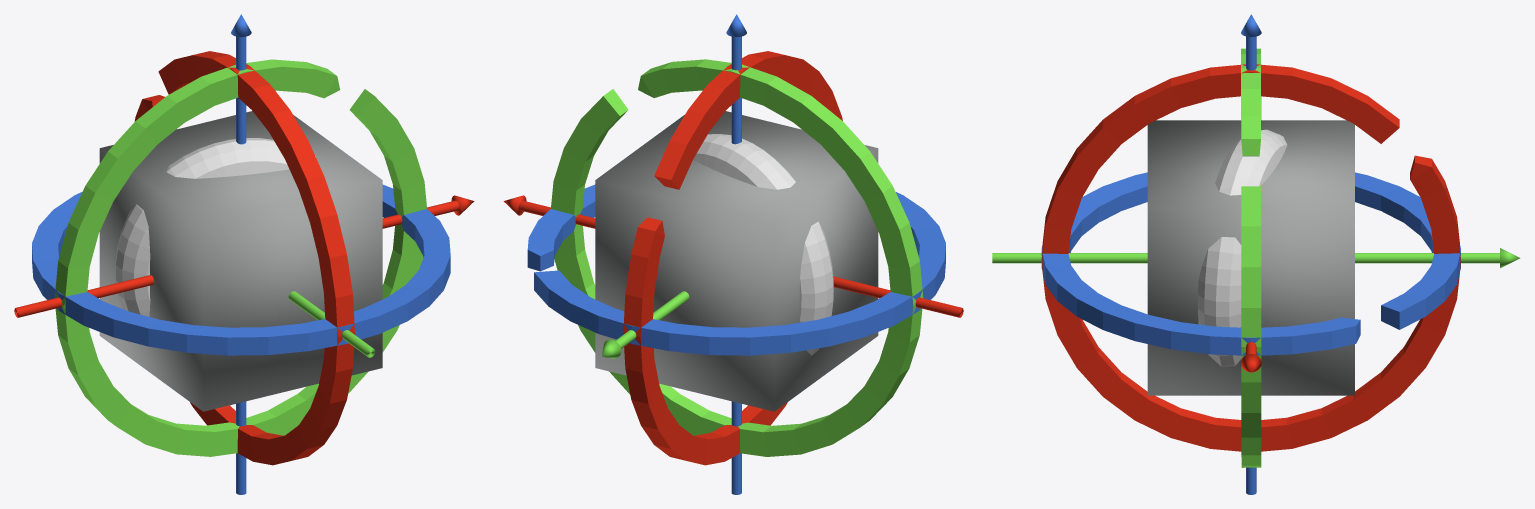
File: thecube.glb
3 views of the same model, side by side, from view 1: azimuth 30°, elevation 25°; view 2: azimuth 150°, elevation 25°; view 3: azimuth 270°, elevation 25° (orthographic).
Parts seen in each view (by area): view 1: Cube, Cylinder.004, Cylinder.005, Cylinder.003, Torus, Cylinder.002, Cylinder, Cylinder.001; view 2: Cube, Cylinder.004, Cylinder.003, Cylinder.005, Torus, Cylinder.002, Cylinder, Cylinder.001; view 3: Cube, Cylinder.005, Cylinder.003, Cylinder.004, Torus, Cylinder.001, Cylinder.
Part boxes in pixels (x1,y1,x2,y2): Cube: [99, 111, 382, 411]; Cylinder.004: [54, 59, 426, 456]; Cylinder.005: [134, 51, 354, 465]; Cylinder.003: [32, 184, 450, 355]; Torus: [116, 138, 315, 316]; Cylinder.002: [14, 200, 459, 317]; Cylinder: [236, 36, 246, 494]; Cylinder.001: [288, 291, 375, 357]; Cube: [595, 111, 878, 411]; Cylinder.004: [551, 59, 923, 456]; Cylinder.003: [527, 184, 945, 355]; Cylinder.005: [623, 51, 842, 465]; Torus: [693, 134, 833, 355]; Cylinder.002: [518, 200, 963, 317]; Cylinder: [731, 36, 741, 494]; Cylinder.001: [615, 291, 689, 348]; Cube: [1147, 120, 1354, 395]; Cylinder.005: [1041, 64, 1460, 451]; Cylinder.003: [1041, 172, 1460, 355]; Cylinder.004: [1241, 48, 1261, 467]; Torus: [1198, 129, 1287, 366]; Cylinder.001: [992, 253, 1499, 263]; Cylinder: [1246, 36, 1256, 494].
Bounding box in the file's own units: 5.1 × 5.1 × 5.1.
